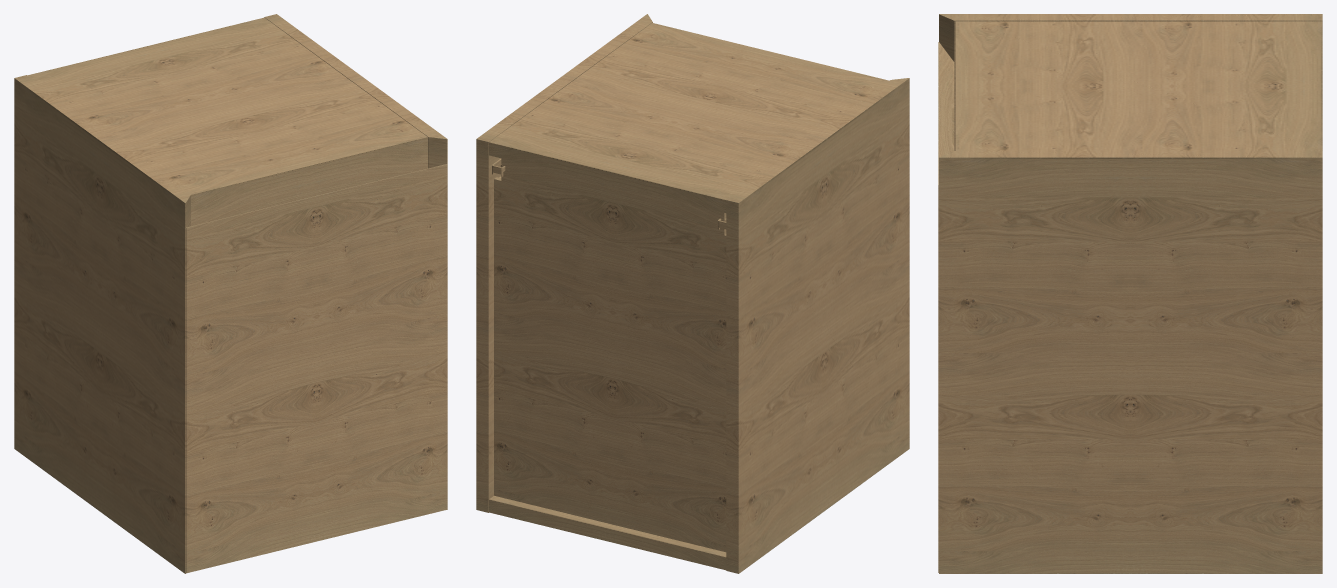
Rendered from coquetamoment4001p.glb.
The picture shows the model from 3 angles, left to right: view 1: azimuth 30°, elevation 25°; view 2: azimuth 150°, elevation 25°; view 3: azimuth 270°, elevation 25°; orthographic projection. The views are drawn at different scales.
Visible parts, largest first — view 1: coqueta moment 400 1p; view 2: coqueta moment 400 1p; view 3: coqueta moment 400 1p.
Boxes of the visible parts, bbox=[...] form: coqueta moment 400 1p: bbox=[14, 14, 447, 573]; coqueta moment 400 1p: bbox=[476, 14, 909, 573]; coqueta moment 400 1p: bbox=[938, 14, 1322, 573].
Bounding box in the file's own units: 0.4 × 0.54 × 0.452.
1 material, 1 textured.
